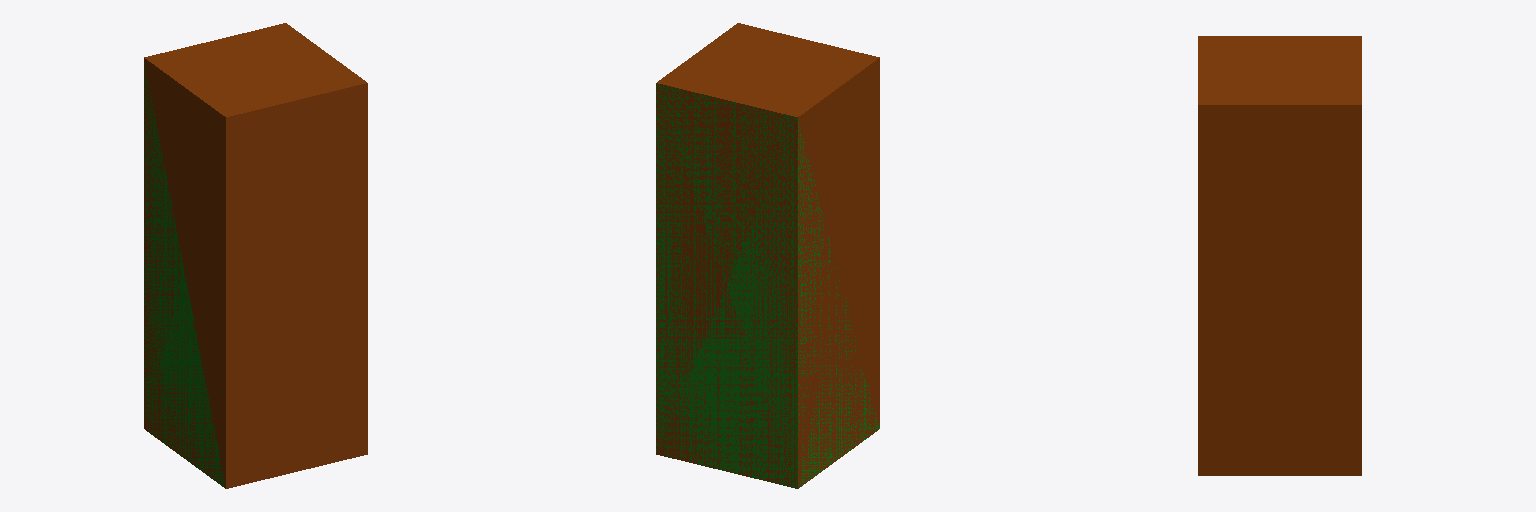
Rendered from tree.obj.
3 renders of one model, left to right at view 1: azimuth 30°, elevation 25°; view 2: azimuth 150°, elevation 25°; view 3: azimuth 270°, elevation 25°, orthographic.
Visible parts, largest first — view 1: Trunk, Leaves; view 2: Trunk, Leaves; view 3: Trunk.
Boxes of the visible parts, <box> form: Trunk: <box>144,23,367,488</box>; Leaves: <box>144,63,224,487</box>; Trunk: <box>656,23,879,488</box>; Leaves: <box>656,83,879,488</box>; Trunk: <box>1198,36,1361,475</box>.
Bounding box in the file's own units: 0.2 × 0.5 × 0.2.